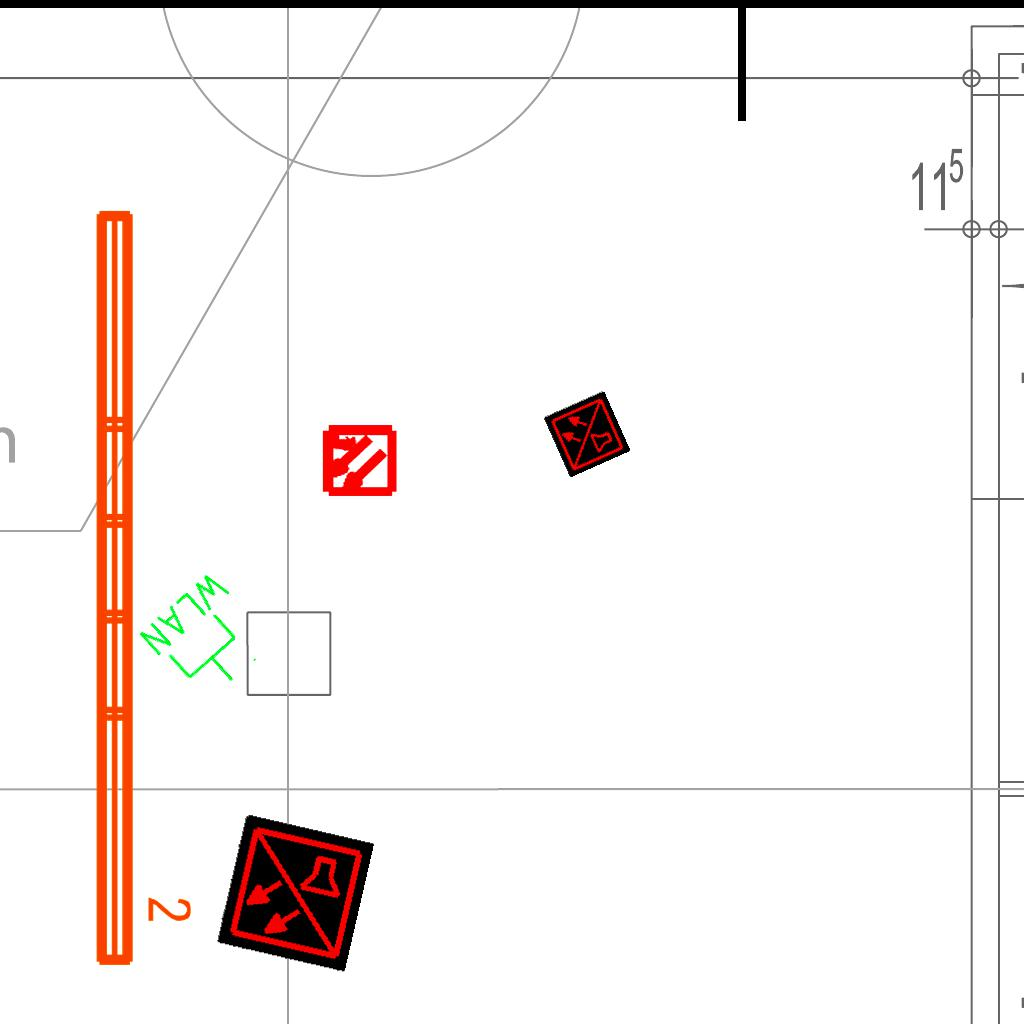Ambulanz_Pendelleuchte_LED: (84, 200, 196, 974)
OKW_Multisensormelder_(Kombination_optischer_Rauch-Kahlenmonoxid_Waerme-Melder): (215, 813, 375, 973), (543, 390, 631, 478)
OT_Multisensormelder_(Kombination_RMO_WMD): (301, 404, 414, 517)
WLAN: (133, 563, 281, 712)
